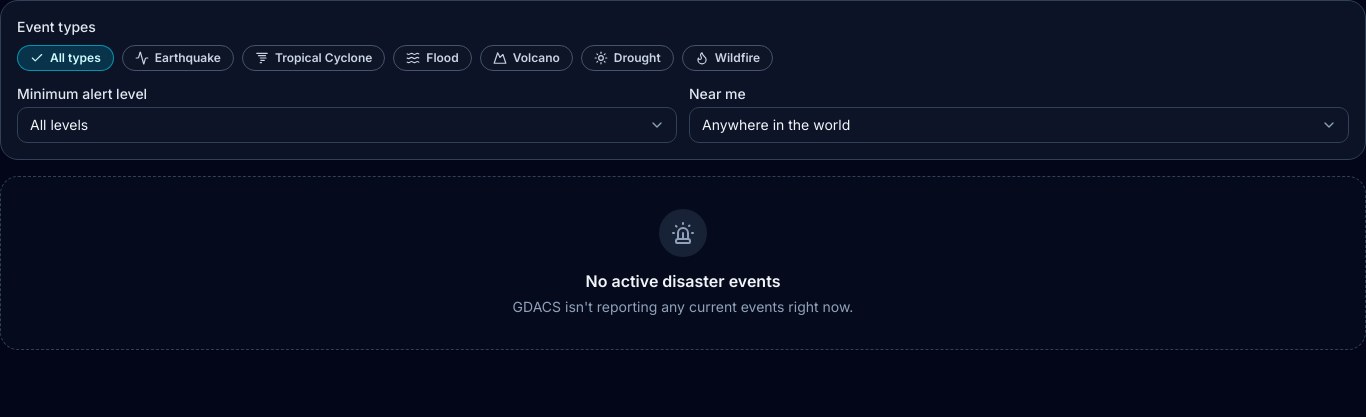
Test: DisasterEventsPanel › shows an empty state that can clear the filters
Later steps or results of the test are not shown.
expect the text "No active disaster events" is shown: met, box [586, 271, 780, 291]
Select "Orange & red" in the dropdown labelled "Minimum alert level" at (347, 125), box [17, 107, 677, 143]
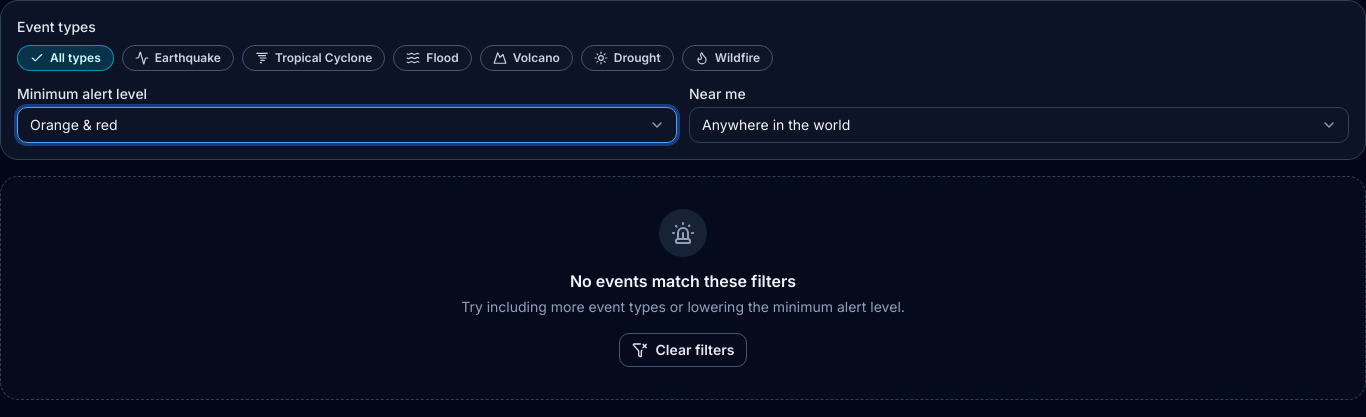
expect the text "No events match these filters" is shown: met, box [570, 271, 796, 291]
